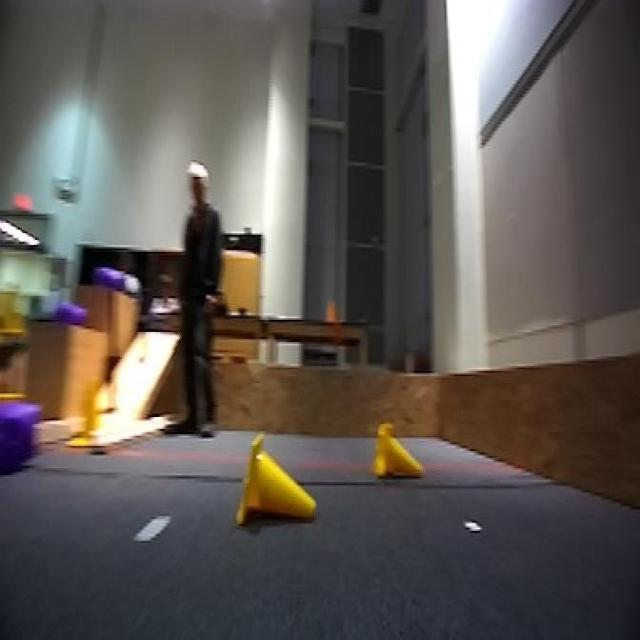frc_cone: (239, 434, 315, 519), (366, 410, 403, 475), (72, 374, 103, 448), (0, 271, 29, 347)
frc_cube: (0, 400, 38, 478), (43, 291, 90, 327), (92, 267, 130, 293)
